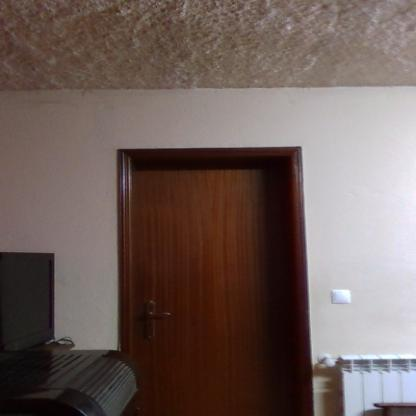door: (129, 168, 292, 416)
lever: (140, 310, 175, 324)
